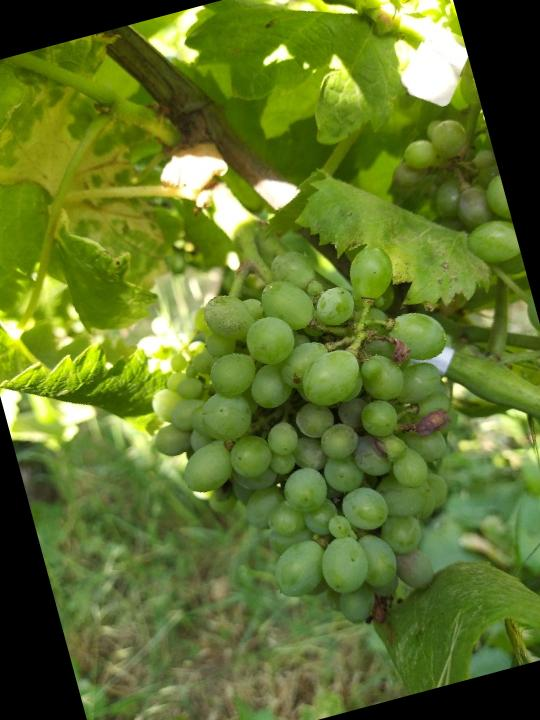grape: (107, 212, 514, 671)
